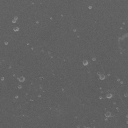corrosion: (18, 75, 26, 83), (81, 59, 89, 66), (106, 91, 113, 99), (104, 110, 111, 118), (13, 26, 20, 33), (11, 16, 18, 23), (98, 74, 105, 81), (87, 4, 93, 11), (4, 41, 9, 46), (72, 28, 77, 33)
